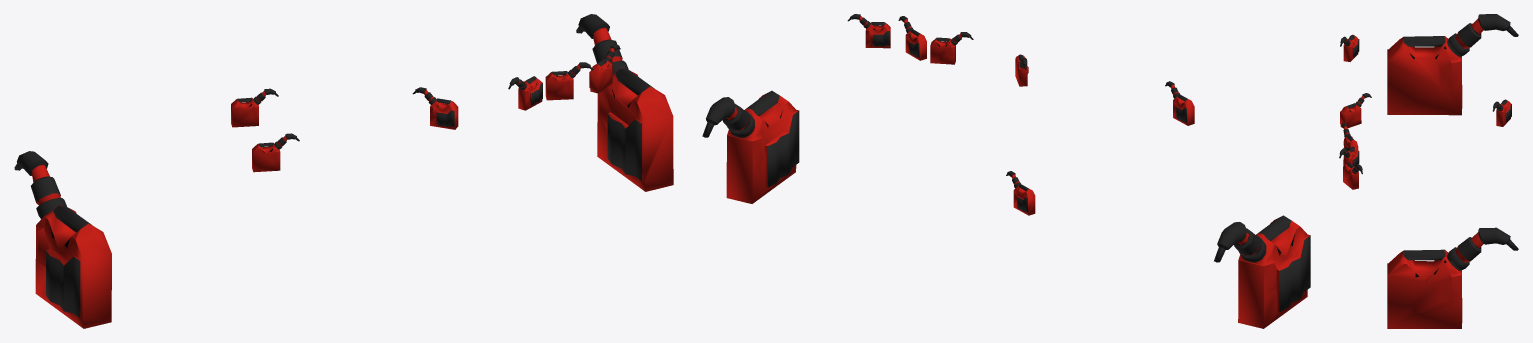
The model's file is kanister_re.fbx.
3 renders of one model, left to right at view 1: azimuth 30°, elevation 25°; view 2: azimuth 150°, elevation 25°; view 3: azimuth 270°, elevation 25°, orthographic. The views are drawn at different scales.
Visible parts, largest first — view 1: Canister_Baked.006, Canister_Baked.003, Canister_Baked.001, Canister_Baked.005, Canister_Baked.004, Canister_Baked.007, Canister_Baked, Canister_Baked.002; view 2: Canister_Baked.003, Canister_Baked.006, Canister_Baked.002, Canister_Baked, Canister_Baked.007, Canister_Baked.005, Canister_Baked.001; view 3: Canister_Baked.003, Canister_Baked.006, Canister_Baked.004, Canister_Baked.005, Canister_Baked, Canister_Baked.007, Canister_Baked.001, Canister_Baked.002.
Boxes of the visible parts, x1,y1,x2,y2 form: Canister_Baked.006: [14, 151, 111, 328]; Canister_Baked.003: [576, 14, 673, 191]; Canister_Baked.001: [545, 62, 593, 100]; Canister_Baked.005: [252, 133, 299, 172]; Canister_Baked.004: [412, 87, 458, 129]; Canister_Baked.007: [231, 88, 278, 127]; Canister_Baked: [589, 44, 620, 93]; Canister_Baked.002: [508, 76, 542, 110]; Canister_Baked.003: [702, 90, 799, 203]; Canister_Baked.006: [1214, 215, 1310, 328]; Canister_Baked.002: [930, 32, 973, 64]; Canister_Baked: [847, 14, 890, 48]; Canister_Baked.007: [1006, 171, 1035, 215]; Canister_Baked.005: [1165, 81, 1194, 125]; Canister_Baked.001: [898, 16, 926, 60]; Canister_Baked.003: [1387, 227, 1518, 328]; Canister_Baked.006: [1387, 14, 1518, 115]; Canister_Baked.004: [1340, 93, 1371, 128]; Canister_Baked.005: [1340, 34, 1359, 61]; Canister_Baked: [1343, 162, 1362, 189]; Canister_Baked.007: [1492, 99, 1511, 126]; Canister_Baked.001: [1339, 146, 1359, 166]; Canister_Baked.002: [1341, 123, 1358, 150].
Size of the model in its own units: 2030 by 557 by 675.
Materials: 1 (1 with a texture image).
